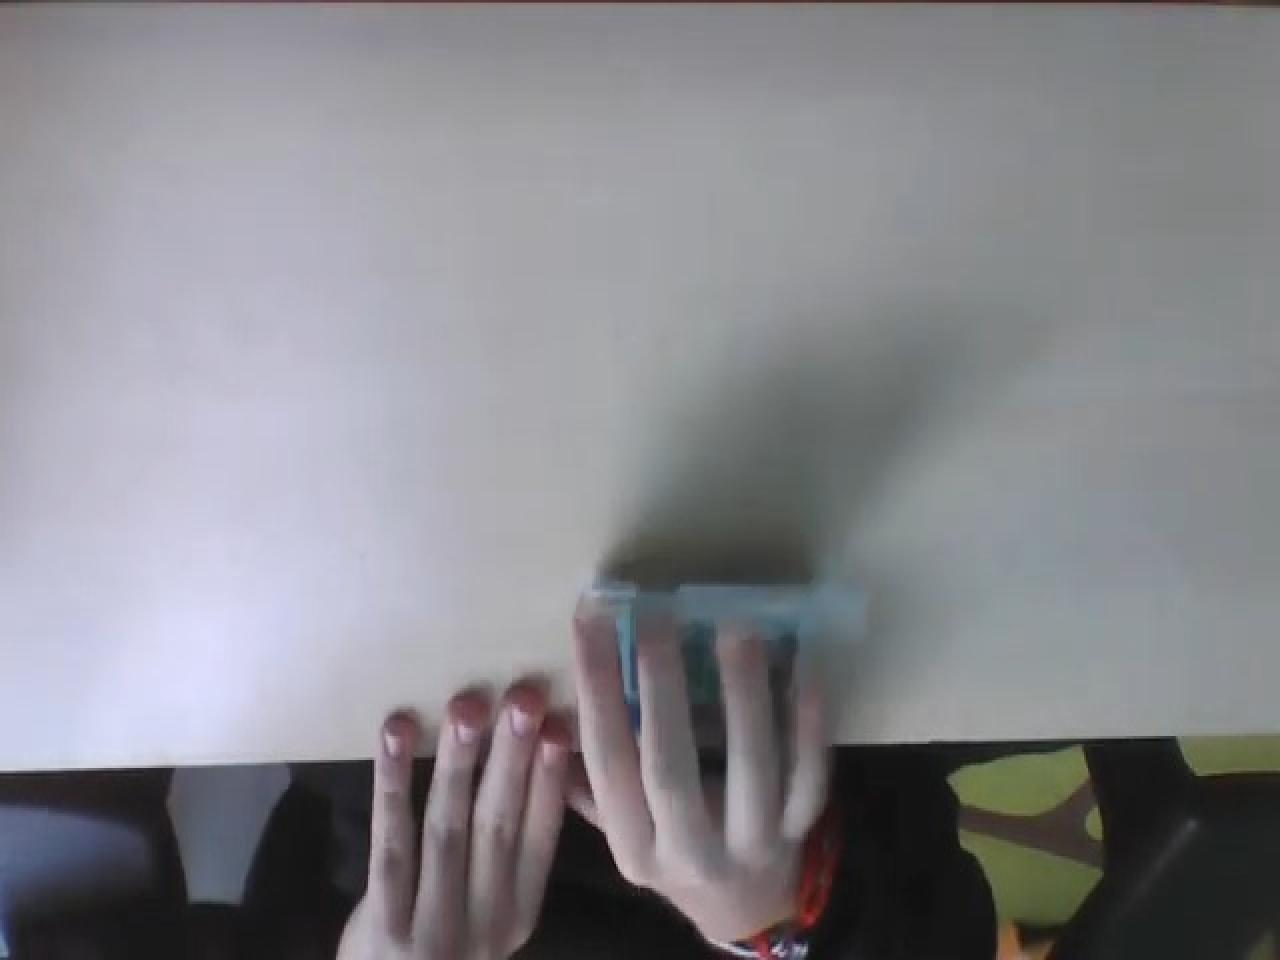100leva: (584, 566, 868, 720)
